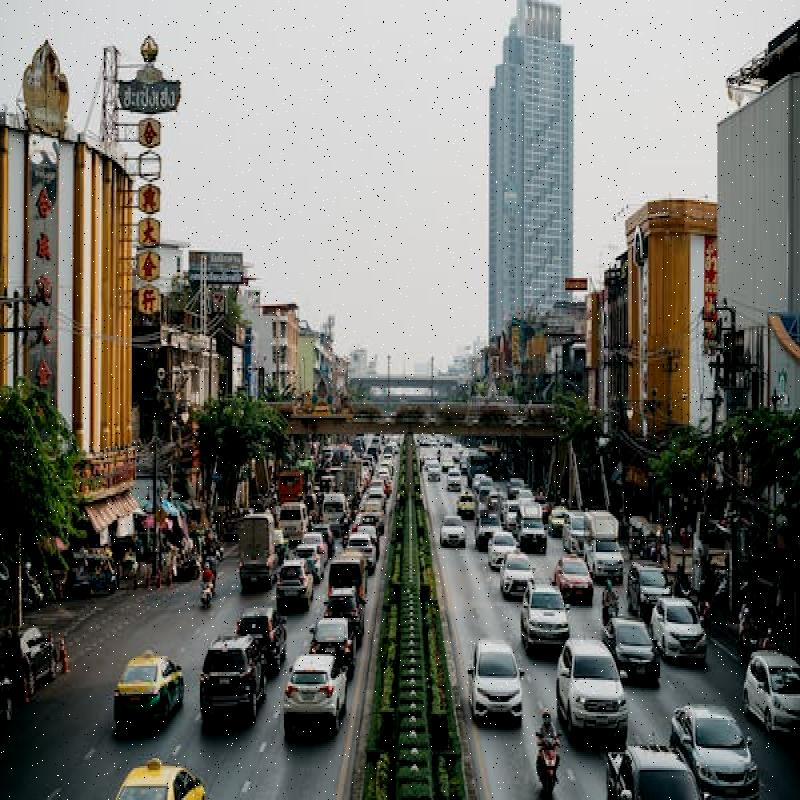car: (559, 633, 629, 757), (672, 698, 751, 798), (738, 640, 800, 742), (466, 629, 526, 734), (108, 644, 177, 729), (608, 736, 693, 800), (239, 584, 286, 692), (197, 629, 265, 696), (520, 577, 568, 662), (608, 612, 660, 685), (285, 648, 338, 712), (309, 600, 358, 668), (656, 591, 704, 660), (122, 756, 192, 800), (554, 553, 598, 607), (326, 560, 359, 614), (276, 558, 314, 600), (297, 518, 327, 570), (501, 553, 534, 600), (343, 532, 373, 572), (594, 532, 613, 570)
